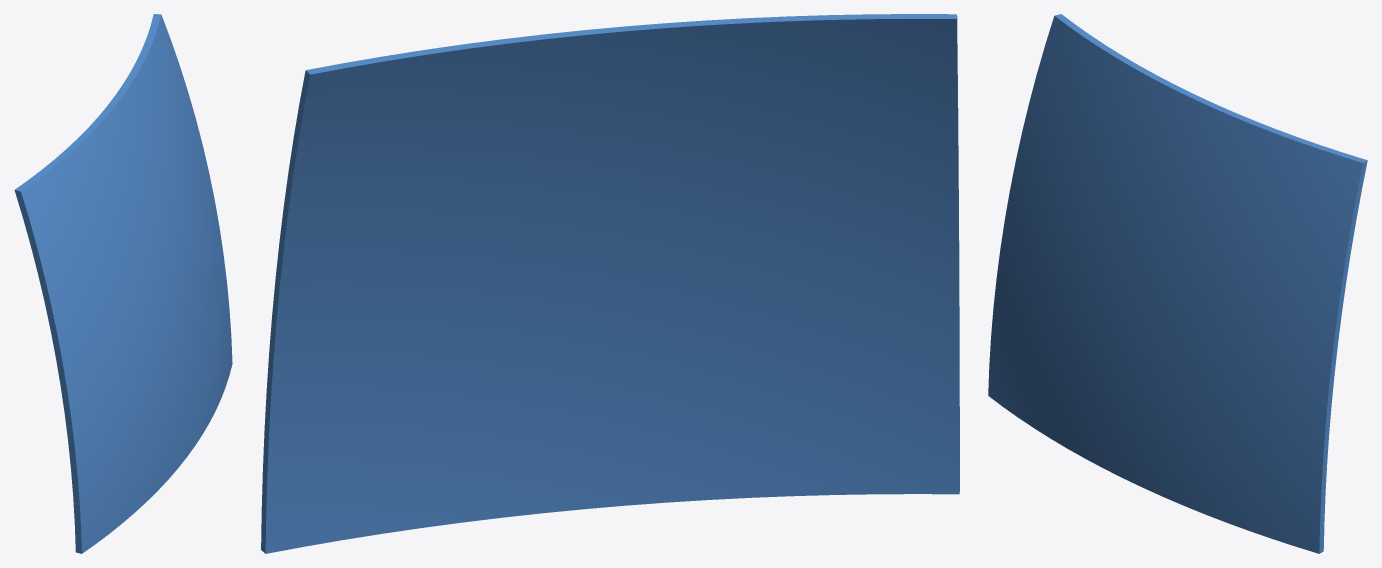
3 views of the same model, side by side, from view 1: azimuth 30°, elevation 25°; view 2: azimuth 150°, elevation 25°; view 3: azimuth 270°, elevation 25° (orthographic). The views are drawn at different scales.
Visible parts, largest first — view 1: Body1; view 2: Body1; view 3: Body1.
Boxes of the visible parts, x1=… form: Body1: x1=14, y1=14, x2=232, y2=553; Body1: x1=261, y1=14, x2=959, y2=553; Body1: x1=988, y1=14, x2=1367, y2=553.
Size of the model in its own units: 8.64 by 8.4 by 7.92.
